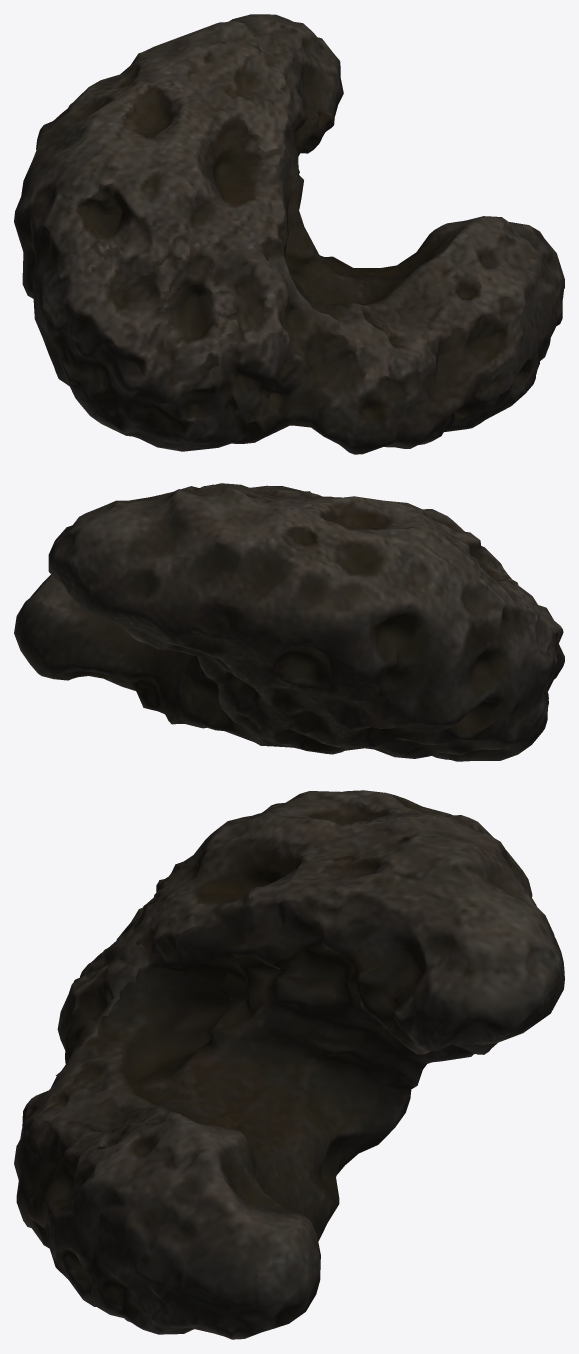
Rendered from asteroid_rare_2_lod2.glb.
The picture shows the model from 3 angles, top to bottom: view 1: azimuth 30°, elevation 25°; view 2: azimuth 150°, elevation 25°; view 3: azimuth 270°, elevation 25°; orthographic projection. The views are drawn at different scales.
Parts seen in each view (by area): view 1: model; view 2: model; view 3: model.
Boxes of the visible parts, left/top/right/bottom form: model: left=14, top=14, right=564, bottom=454; model: left=14, top=483, right=564, bottom=761; model: left=14, top=790, right=564, bottom=1339.
Bounding box in the file's own units: 1.9 × 1.15 × 1.45.
Materials: 1 (1 with a texture image).
